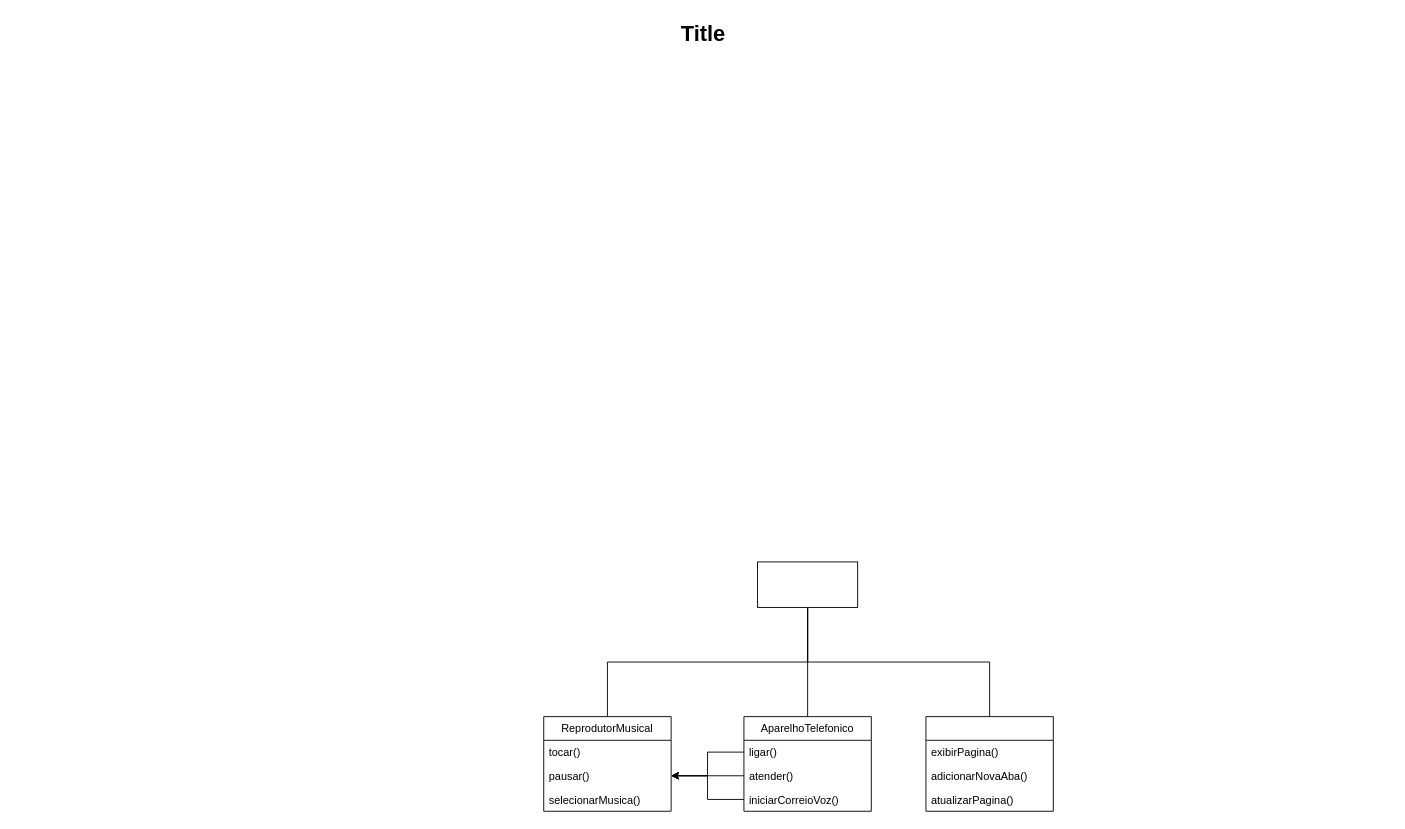
Image size: 1405x829. Some labels were removed from this diagram. Here are the shapes that lost their labels. From the top down, the box of each, then its label:
(757, 561, 858, 607): Iphone
(925, 716, 1053, 811): NavegadorInternet
